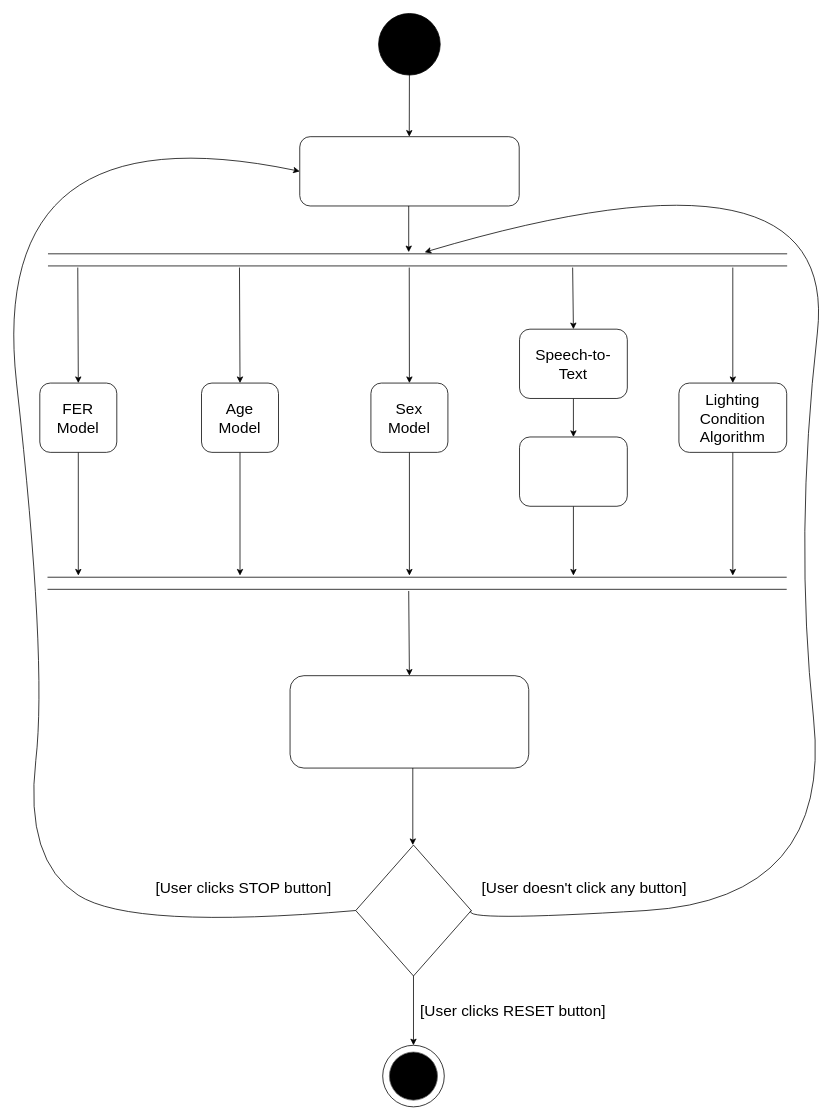
This 832x1120 diagram has some shape labels left out. Each missing label, with the centre of its shape:
"Data Visualization Components in UI are Updated" goes at (409,721).
"Sentiment Analysis" goes at (573,471).
"User clicks START button" goes at (409,171).
